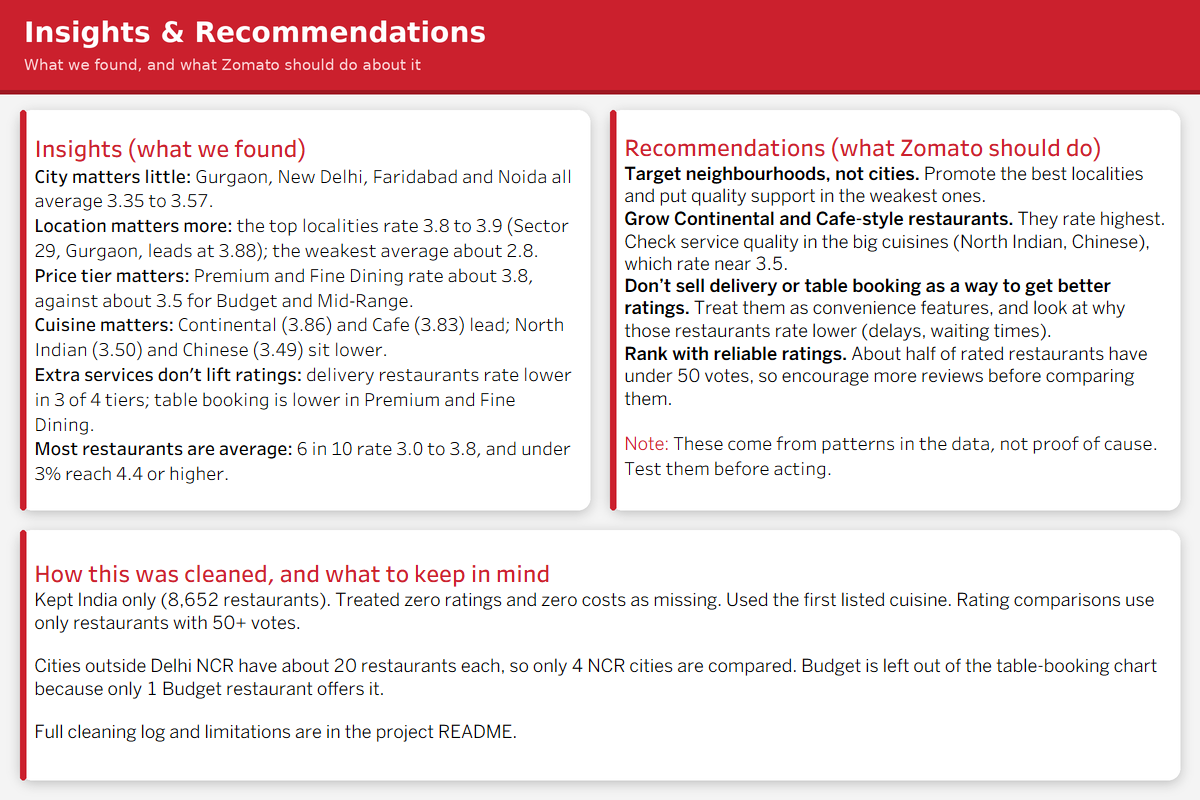

The page's visual inventory and layout, read from the dashboard file:
{"tool":"tableau","page":{"name":"Insights & Recommendations","canvas":[1200,800],"ordinal":0},"visuals":[{"type":"image","param":"Image/zomato_bg3.png","box":[0,0,1200,800]},{"type":"text","box":[621,115,548,386]},{"type":"text","box":[31,117,551,386]},{"type":"text","box":[31,535,1136,233]}]}

Visuals, with their boxes in screenshot pixels (x1, y1, x2, y2), scaled from the page's 1200x800 canvas onto the 1200x800 screenshot:
image: l=0, t=0, r=1199, b=799
text: l=621, t=115, r=1169, b=501
text: l=31, t=117, r=582, b=503
text: l=31, t=535, r=1167, b=768
